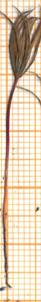flower: (0, 0, 41, 82)
stem: (0, 82, 20, 289)
